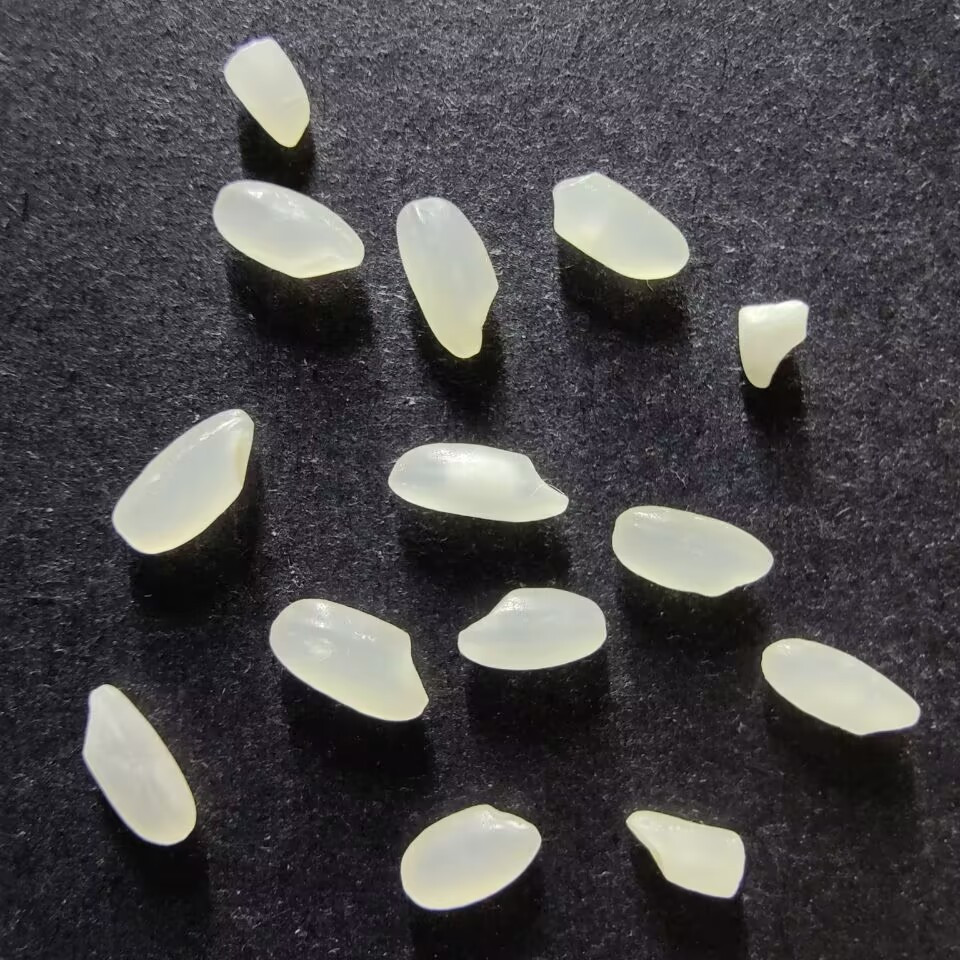broken: (625, 807, 748, 901), (221, 36, 311, 147), (735, 299, 811, 389)
rice: (109, 406, 254, 555), (266, 596, 430, 723), (79, 682, 197, 848), (393, 195, 500, 360), (759, 637, 921, 737), (608, 504, 775, 598), (397, 803, 541, 912), (210, 178, 365, 279), (550, 170, 690, 280), (385, 441, 570, 524), (455, 585, 607, 672)
